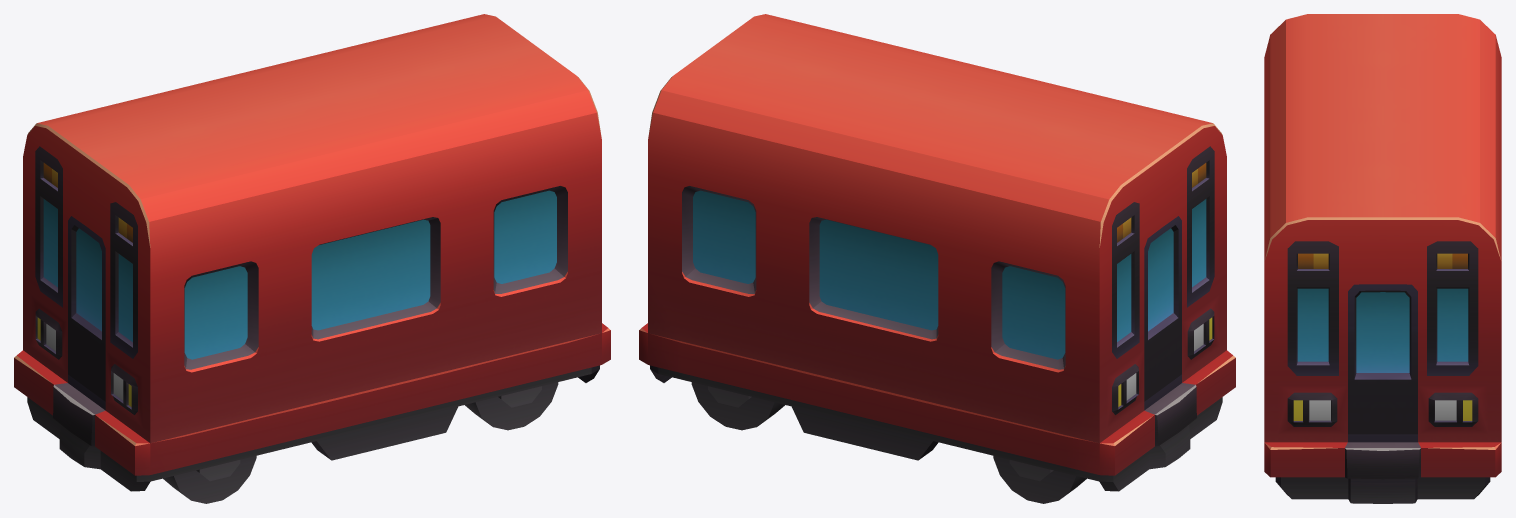
Rendered from Trains.fbx.
The picture shows the model from 3 angles, left to right: view 1: azimuth 30°, elevation 25°; view 2: azimuth 150°, elevation 25°; view 3: azimuth 270°, elevation 25°; orthographic projection. The views are drawn at different scales.
Visible parts, largest first — view 1: Train_1, Wheels_1; view 2: Train_1, Wheels_1; view 3: Train_1, Wheels_1.
Boxes of the visible parts, bbox=[...] form: Train_1: bbox=[14, 14, 610, 475]; Wheels_1: bbox=[27, 365, 599, 503]; Train_1: bbox=[639, 14, 1235, 475]; Wheels_1: bbox=[650, 365, 1222, 503]; Train_1: bbox=[1264, 14, 1501, 479]; Wheels_1: bbox=[1275, 477, 1490, 503].
Bounding box in the file's own units: 447 × 290 × 203.
